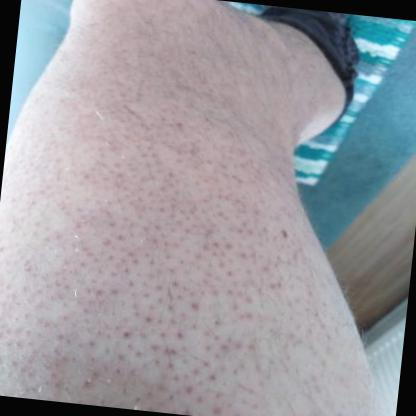Chicken Skin: (0, 0, 327, 416)
